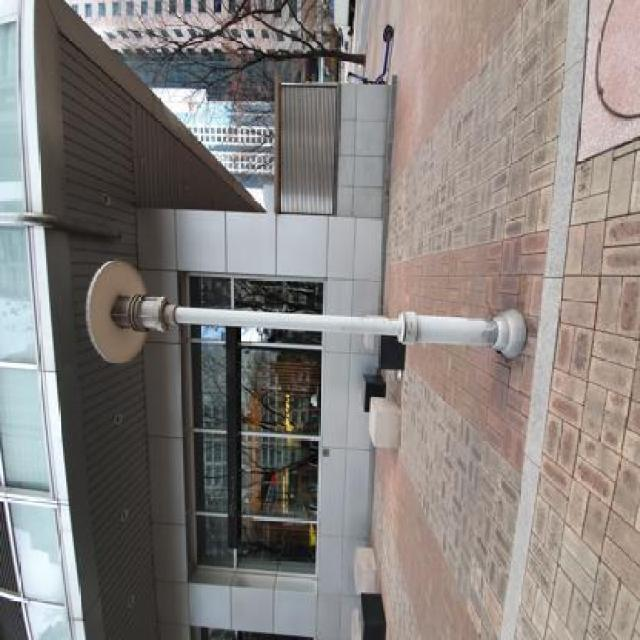pole: (68, 252, 535, 378)
